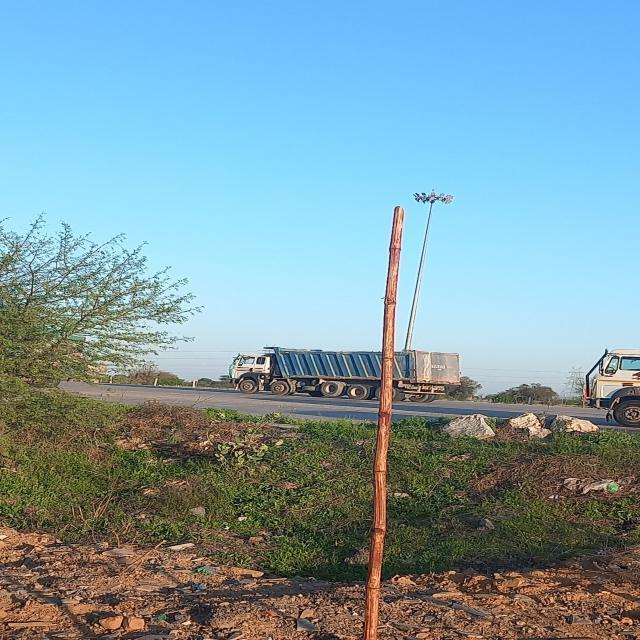uncovered: (231, 347, 463, 403)
